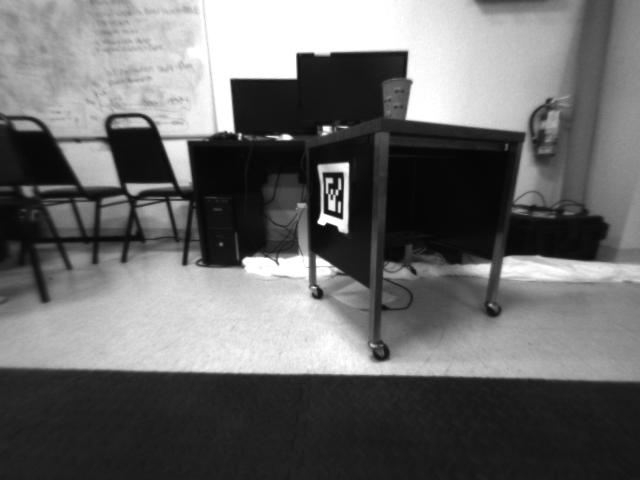coffee_cup: (378, 75, 412, 122)
